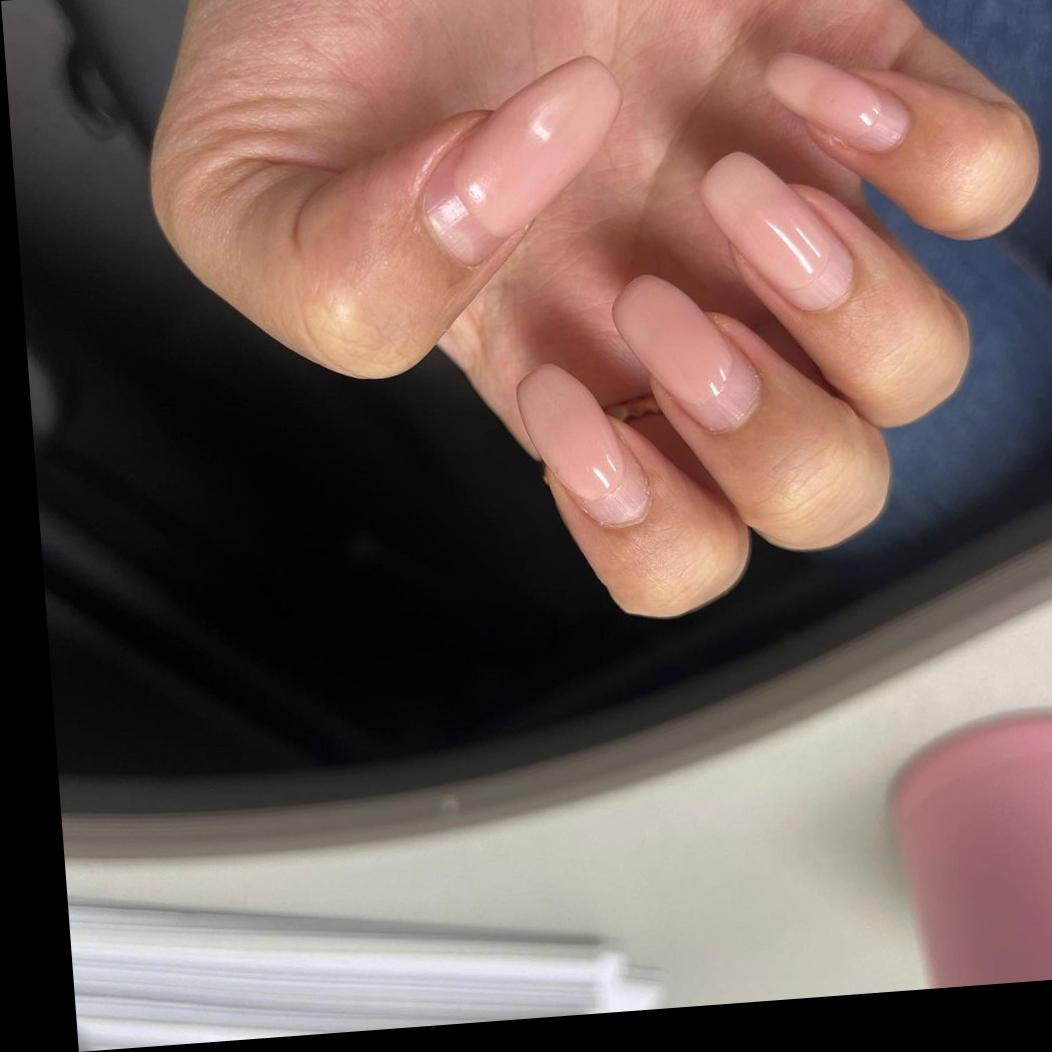nail: (407, 53, 632, 273), (694, 142, 858, 322), (607, 264, 764, 443), (512, 356, 652, 537), (760, 42, 912, 162)
